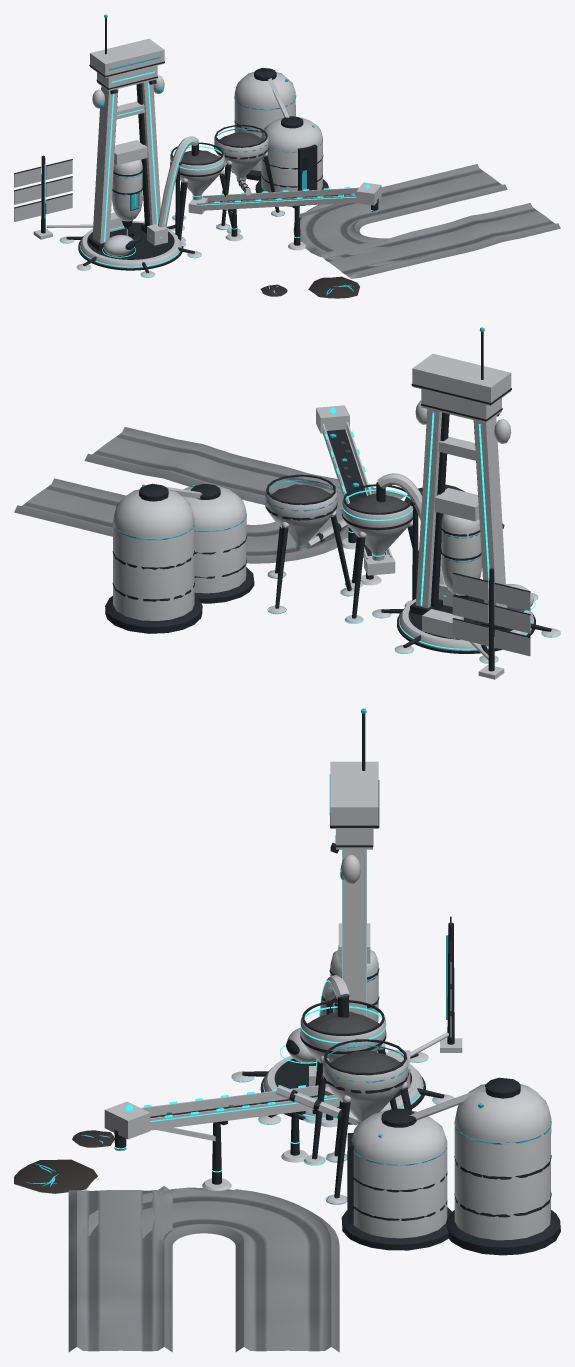
File: mine_game.glb
The picture shows the model from 3 angles, top to bottom: view 1: azimuth 30°, elevation 25°; view 2: azimuth 150°, elevation 25°; view 3: azimuth 270°, elevation 25°; orthographic projection. The views are drawn at different scales.
Visible parts, largest first — view 1: Base_Paint, Silo, Tier_12, Tier_08, Tier_05, Tier_20, Rig, Base_GlowCyan; view 2: Base_Paint, Tier_12, Silo, Tier_08, Tier_05, Tier_20, Rig, Base_GlowCyan; view 3: Base_Paint, Tier_12, Silo, Tier_05, Tier_20, Tier_08, Base_GlowCyan, Rig.
Part boxes in pixels (x1,y1,x2,y2): Base_Paint: (59,65,560,298); Silo: (255,116,328,206); Tier_12: (231,67,296,180); Tier_08: (14,155,93,239); Tier_05: (214,124,285,230); Tier_20: (89,14,164,108); Rig: (112,140,147,235); Base_GlowCyan: (60,71,377,277); Base_Paint: (14,389,560,663); Tier_12: (105,483,202,633); Silo: (182,484,254,603); Tier_08: (452,568,530,679); Tier_05: (265,474,354,614); Tier_20: (411,327,511,443); Rig: (434,488,482,598); Base_GlowCyan: (322,412,560,663); Base_Paint: (14,829,454,1352); Tier_12: (410,1077,560,1255); Silo: (341,1108,451,1250); Tier_05: (275,1039,411,1204); Tier_20: (329,708,379,884); Tier_08: (410,916,462,1057); Base_GlowCyan: (114,829,438,1172); Rig: (329,923,379,1022).
Bounding box in the file's own units: 41.55 × 21.92 × 29.46.
